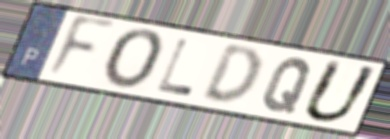D: (198, 44, 264, 108)
F: (42, 13, 119, 82)
L: (154, 36, 196, 98)
O: (100, 27, 168, 93)
Q: (259, 56, 315, 116)
U: (298, 57, 382, 125)
